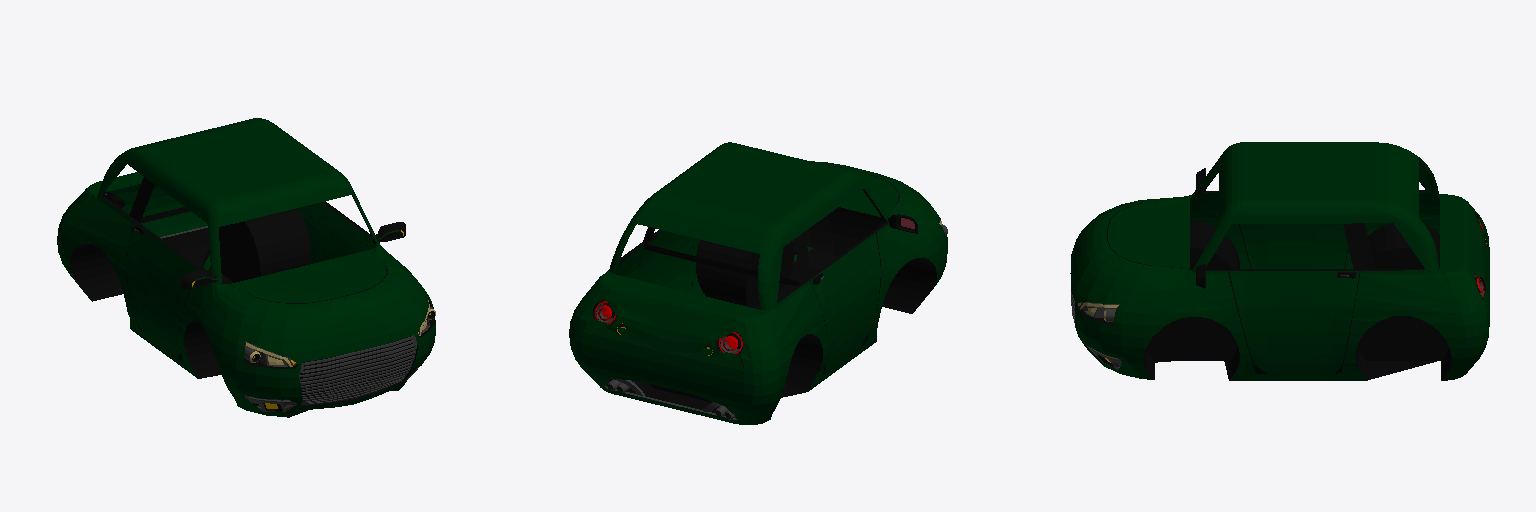
The model's file is chassis.obj.
3 renders of one model, left to right at view 1: azimuth 30°, elevation 25°; view 2: azimuth 150°, elevation 25°; view 3: azimuth 270°, elevation 25°, orthographic.
Parts seen in each view (by area): view 1: Cube; view 2: Cube; view 3: Cube.
Boxes of the visible parts, <box> form: Cube: <box>57,118,435,417</box>; Cube: <box>569,142,947,424</box>; Cube: <box>1070,142,1489,380</box>.
Size of the model in its own units: 8.79 by 6.28 by 14.16.